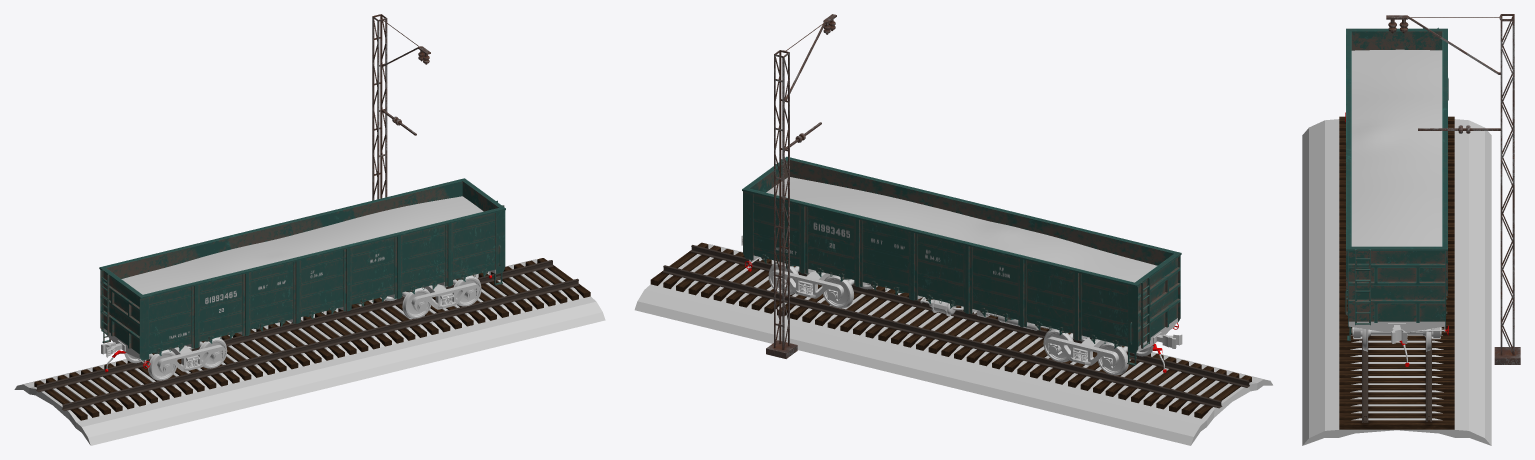
File: Railroad.fbx
3 views of the same model, side by side, from view 1: azimuth 30°, elevation 25°; view 2: azimuth 150°, elevation 25°; view 3: azimuth 270°, elevation 25° (orthographic). The views are drawn at different scales.
Parts seen in each view (by area): view 1: Body, Stone, Sleepers, Coal, Rails, Frame, Power lines; view 2: Body, Stone, Sleepers, Coal, Rails, Frame, Power lines; view 3: Stone, Coal, Body, Sleepers, Power lines, Frame, Rails.
Boxes of the visible parts, x1,y1,x2,y2 form: Body: [99, 178, 505, 360]; Stone: [14, 259, 605, 445]; Sleepers: [34, 258, 590, 420]; Coal: [121, 196, 483, 294]; Rails: [36, 260, 579, 410]; Frame: [101, 269, 502, 380]; Power lines: [372, 14, 430, 200]; Body: [742, 156, 1181, 353]; Stone: [634, 244, 1272, 445]; Sleepers: [650, 242, 1251, 418]; Coal: [766, 177, 1157, 282]; Rails: [662, 245, 1249, 408]; Frame: [741, 235, 1182, 375]; Power lines: [766, 14, 836, 358]; Stone: [1302, 119, 1491, 445]; Coal: [1351, 49, 1442, 246]; Body: [1345, 27, 1448, 327]; Sleepers: [1339, 116, 1454, 429]; Power lines: [1386, 14, 1520, 364]; Frame: [1345, 112, 1448, 366]; Rails: [1362, 337, 1431, 422].
Bounding box in the file's own units: 1759 × 901 × 520.
